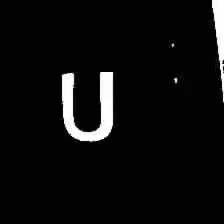LTR_U: (58, 63, 120, 147)
